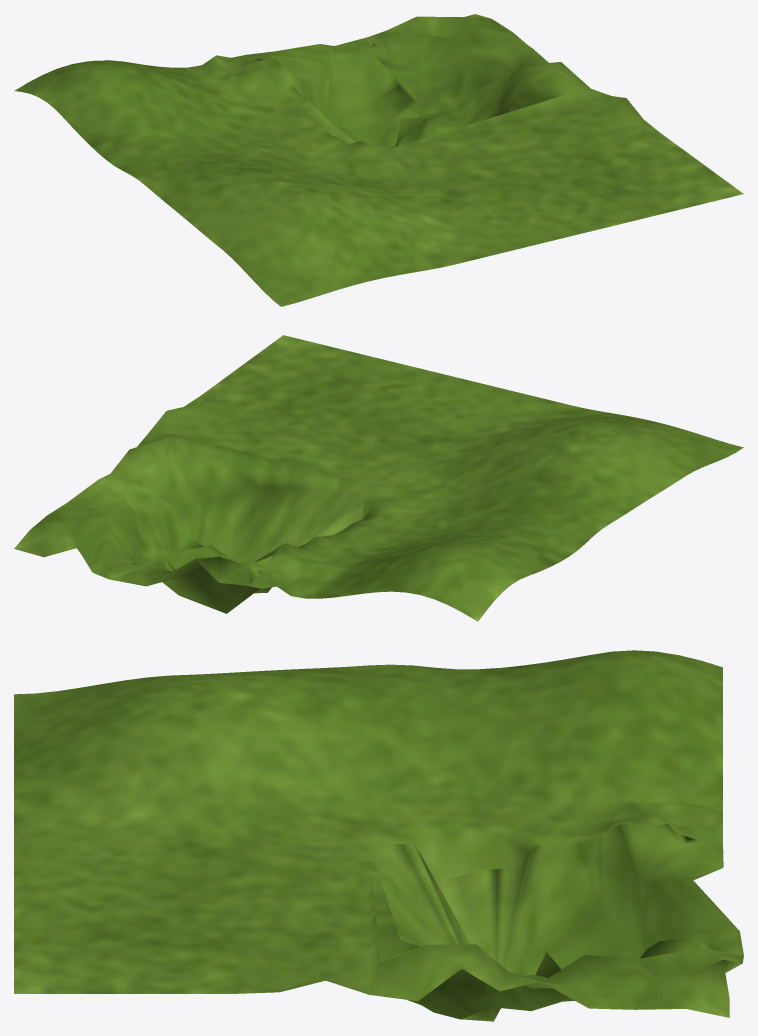
File: terrain.obj
3 views of the same model, one above another, from view 1: azimuth 30°, elevation 25°; view 2: azimuth 150°, elevation 25°; view 3: azimuth 270°, elevation 25° (orthographic). The views are drawn at different scales.
Parts seen in each view (by area): view 1: terrain; view 2: terrain; view 3: terrain.
Part boxes in pixels (x1,y1,x2,y2): terrain: [14, 14, 743, 306]; terrain: [14, 335, 743, 621]; terrain: [14, 650, 743, 1021].
Bounding box in the file's own units: 2584 × 732 × 2642.
1 material, 1 textured.
